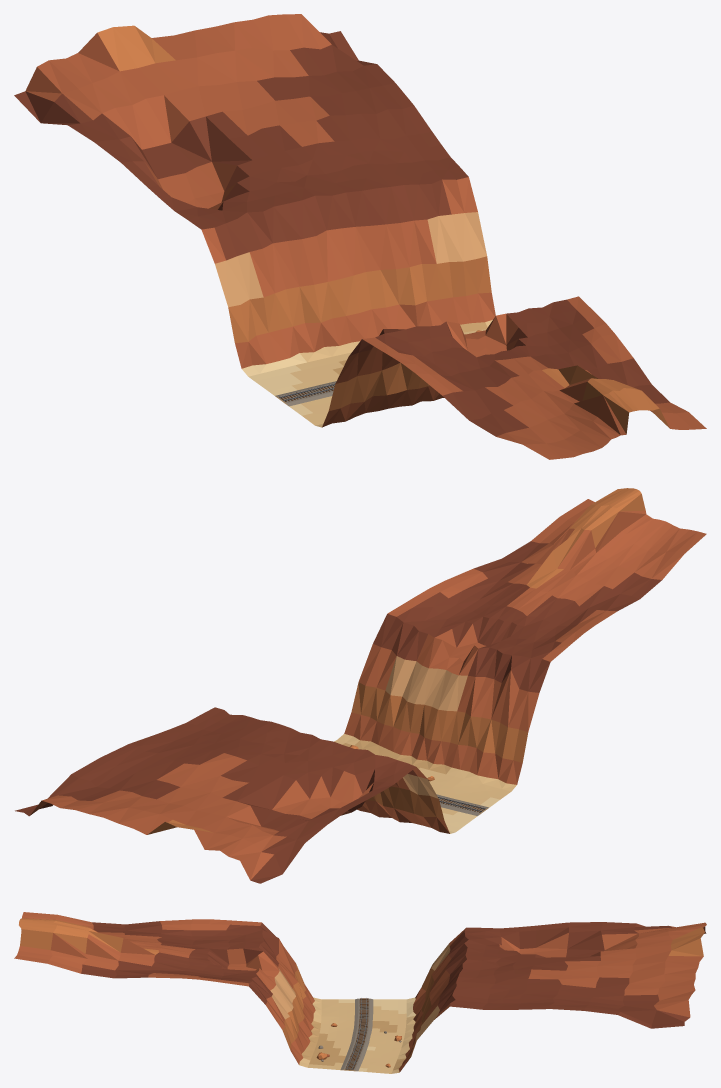
Rendered from SM_FG_Chunk_CanyonDeep_CurveR_A.fbx.
3 renders of one model, top to bottom at view 1: azimuth 30°, elevation 25°; view 2: azimuth 150°, elevation 25°; view 3: azimuth 270°, elevation 25°, orthographic. The views are drawn at different scales.
Visible parts, largest first — view 1: FG_Chunk_CanyonDeep_CurveR_A_Ground, FG_Chunk_CanyonDeep_CurveR_A_Track; view 2: FG_Chunk_CanyonDeep_CurveR_A_Ground; view 3: FG_Chunk_CanyonDeep_CurveR_A_Ground, FG_Chunk_CanyonDeep_CurveR_A_Track.
Part boxes in pixels (x1,y1,x2,y2): FG_Chunk_CanyonDeep_CurveR_A_Ground: [14, 14, 706, 459]; FG_Chunk_CanyonDeep_CurveR_A_Track: [275, 381, 336, 406]; FG_Chunk_CanyonDeep_CurveR_A_Ground: [15, 488, 706, 883]; FG_Chunk_CanyonDeep_CurveR_A_Ground: [14, 912, 706, 1073]; FG_Chunk_CanyonDeep_CurveR_A_Track: [340, 998, 373, 1071].
Size of the model in its own units: 6706 by 20347 by 3483.
